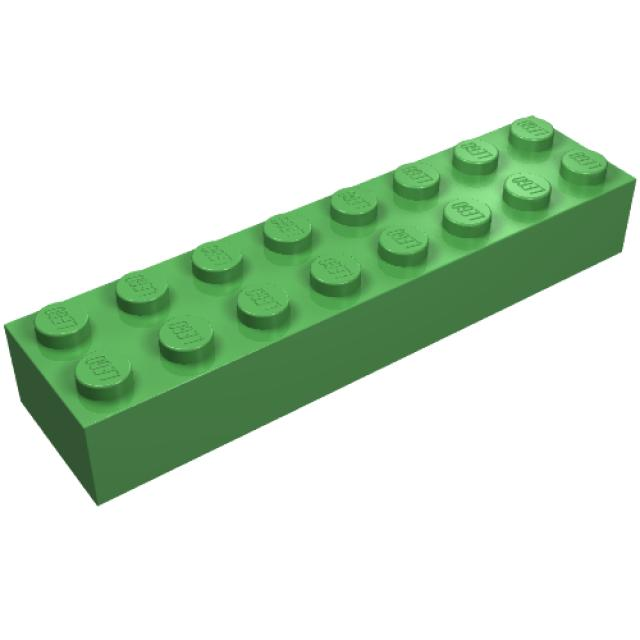Green_Large: (5, 116, 637, 508)
